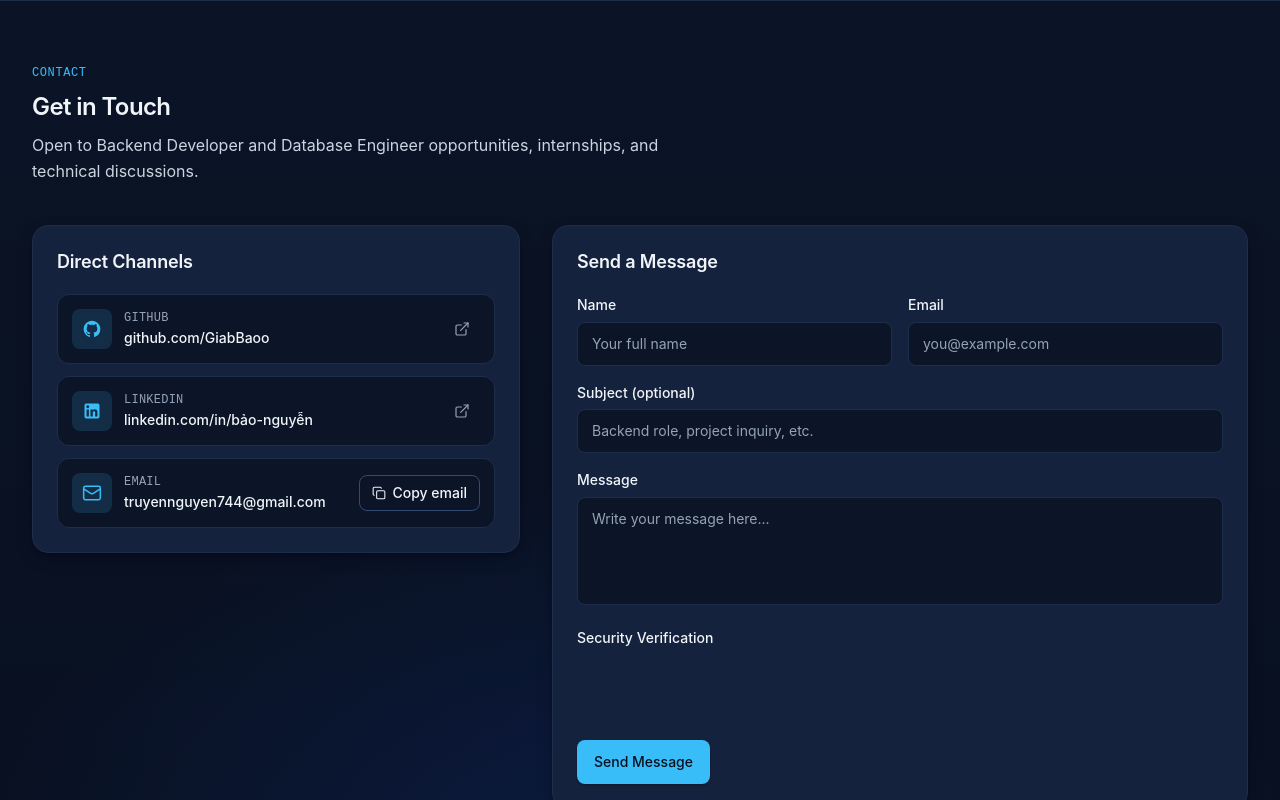
Test: ContactSection & contact-api integration › handles HTTP 413 (PAYLOAD_TOO_LARGE): resets Turnstile=false and preserves user input
Step 1. Type "Nguyen Van A" into the field labelled "Name" → (734, 343), box [577,322,892,365]
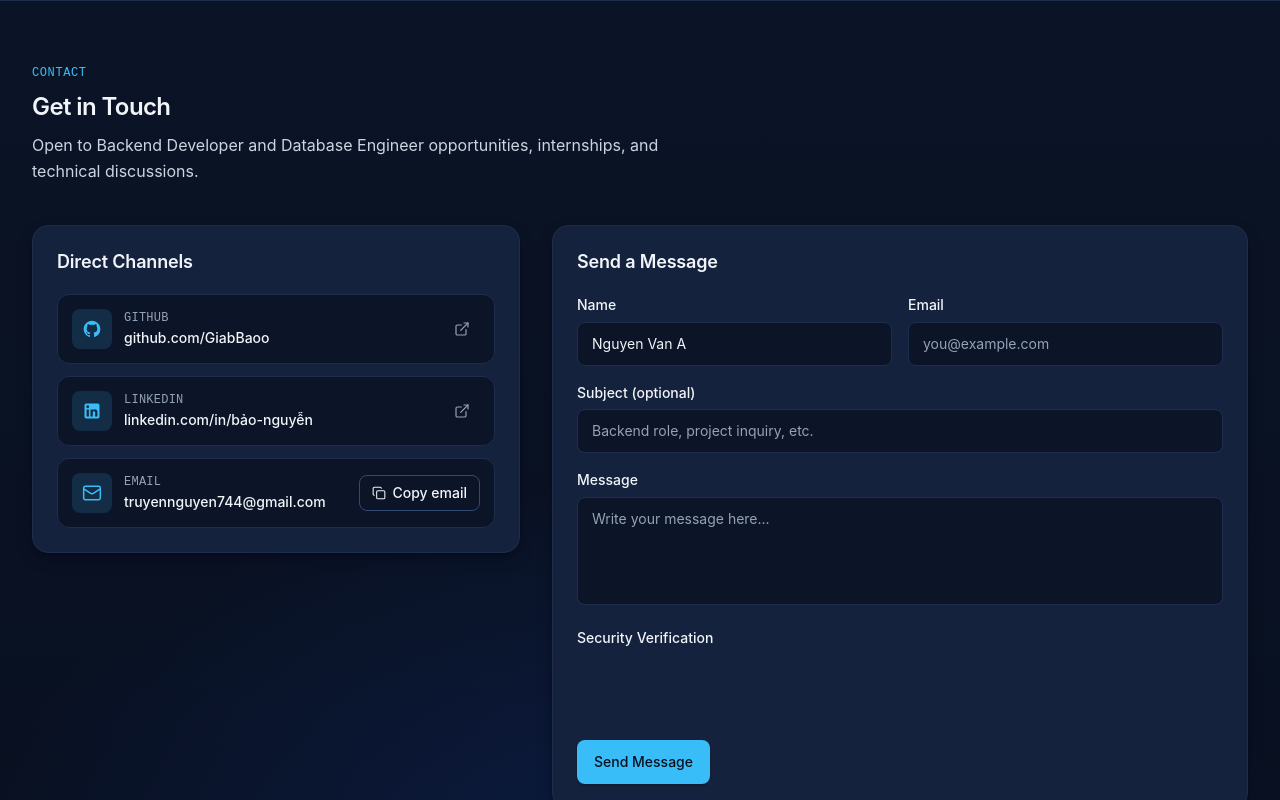
Step 2. Type "user@example.com" into the field labelled "Email" → (1066, 343), box [908,322,1223,365]
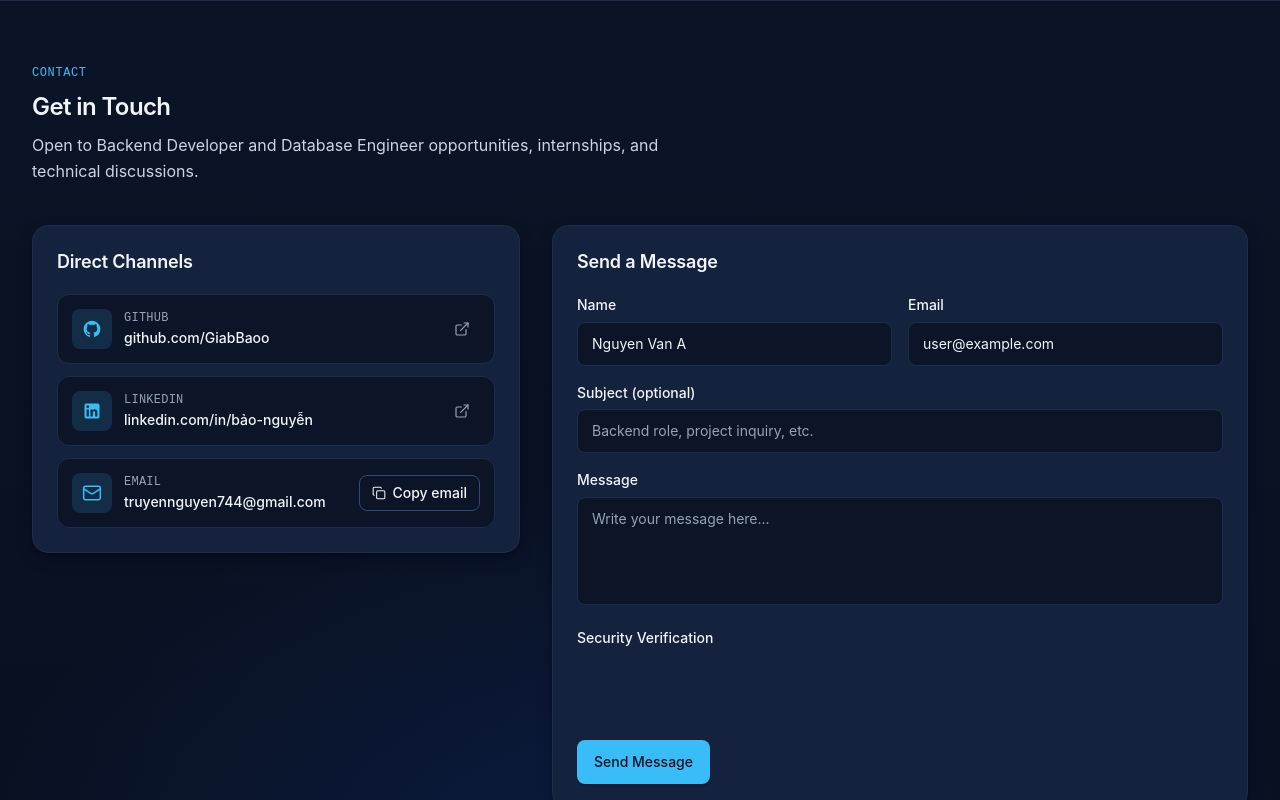
Step 3. Type "Backend opportunity" into the field labelled "Subject (optional)" → (900, 431), box [577,409,1223,453]
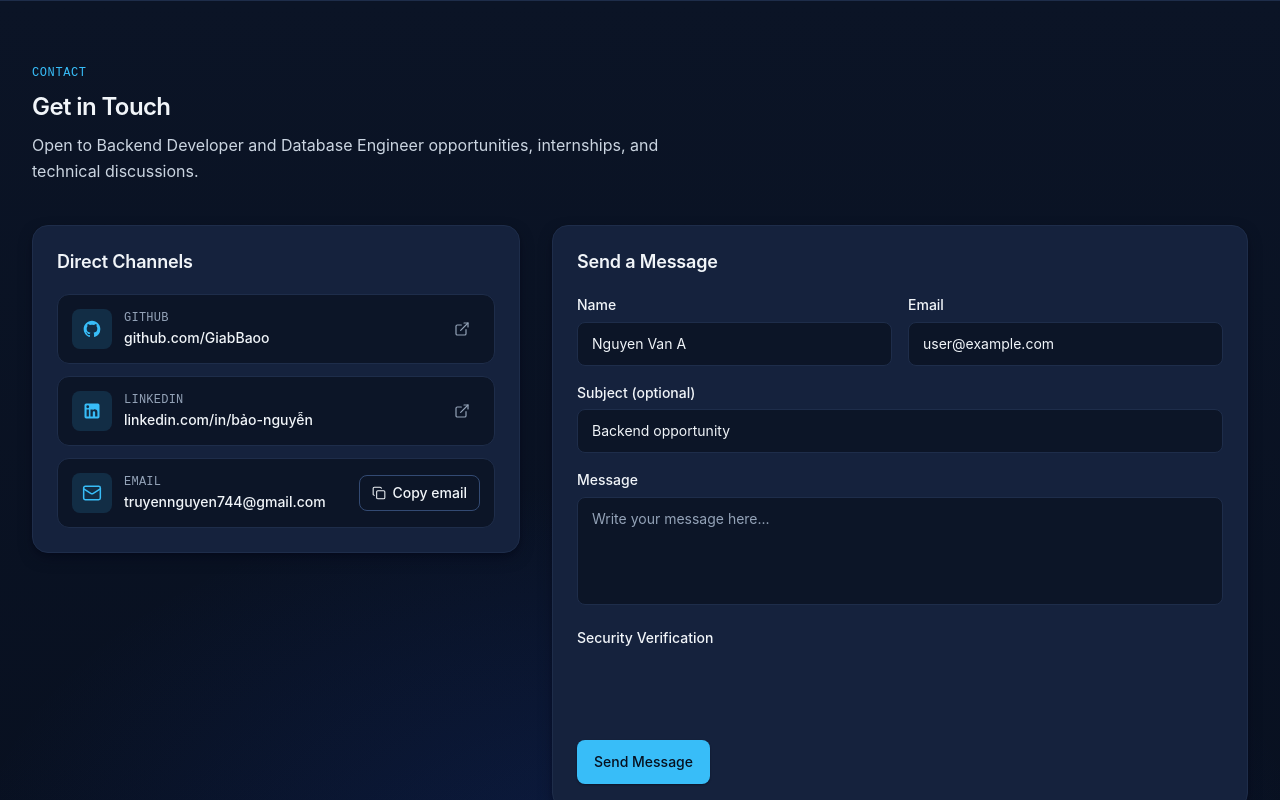
Step 4. Type "Hello Gia Bao, I would like to discuss a backend engineering role." into the text box labelled "Message" → (900, 551), box [577,496,1223,605]
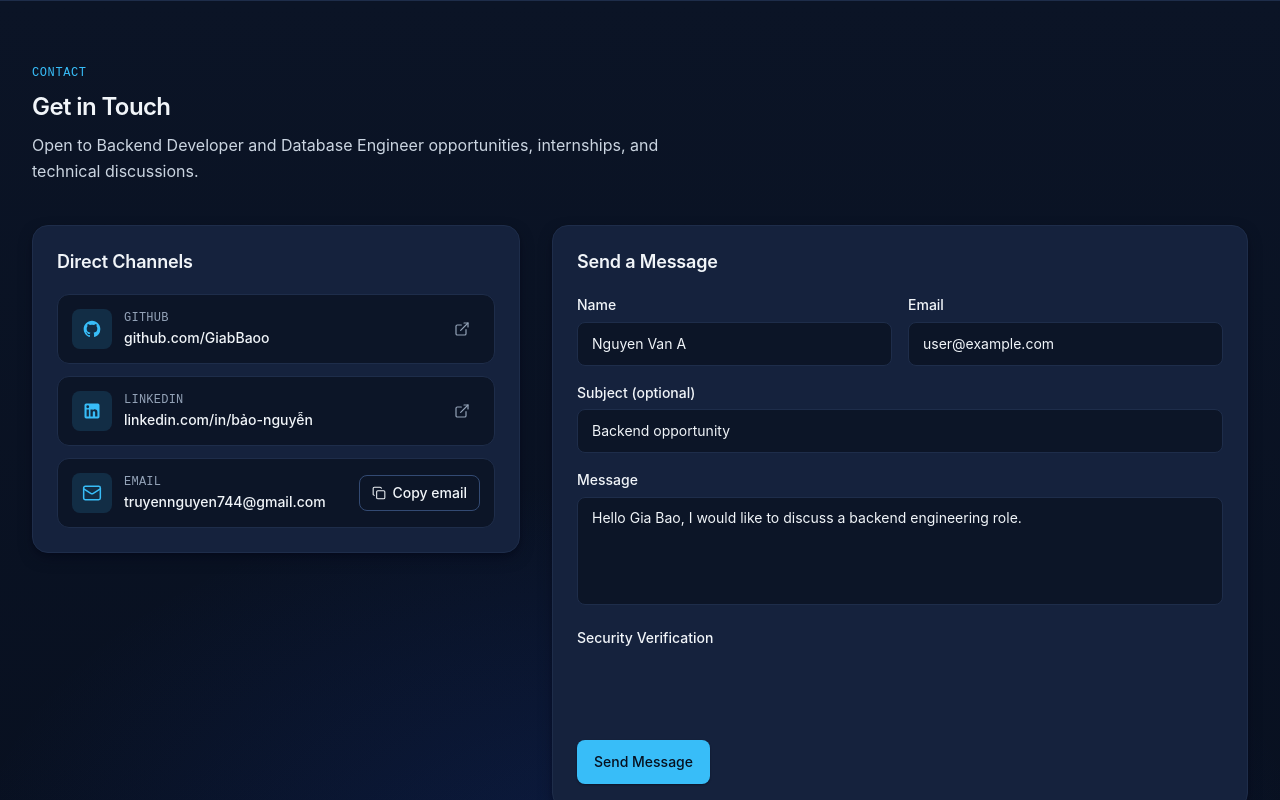
Step 5. Click the button "Send Message" → (644, 762), box [577,740,710,784]
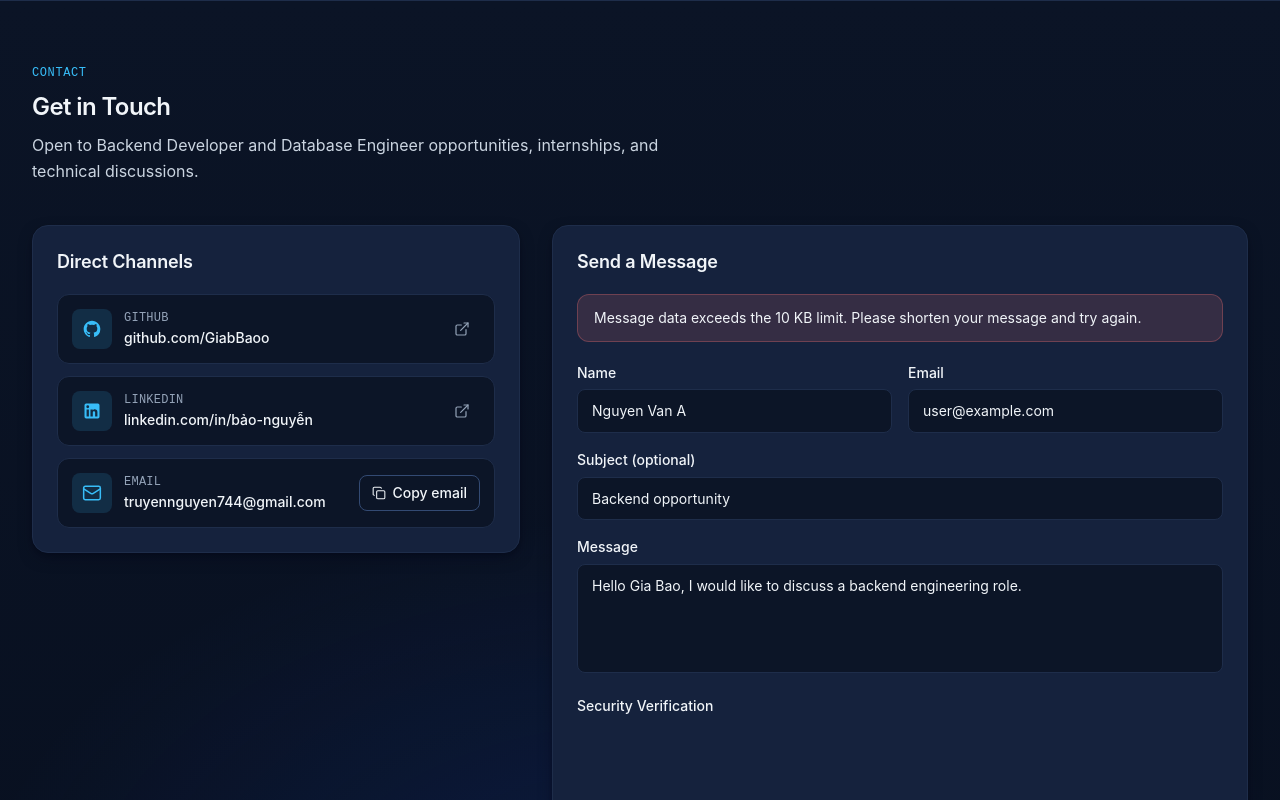
Expected: the text "Message data exceeds the 10 KB limit. Please shorten your message and try again." is shown, [577,294,1223,342]
